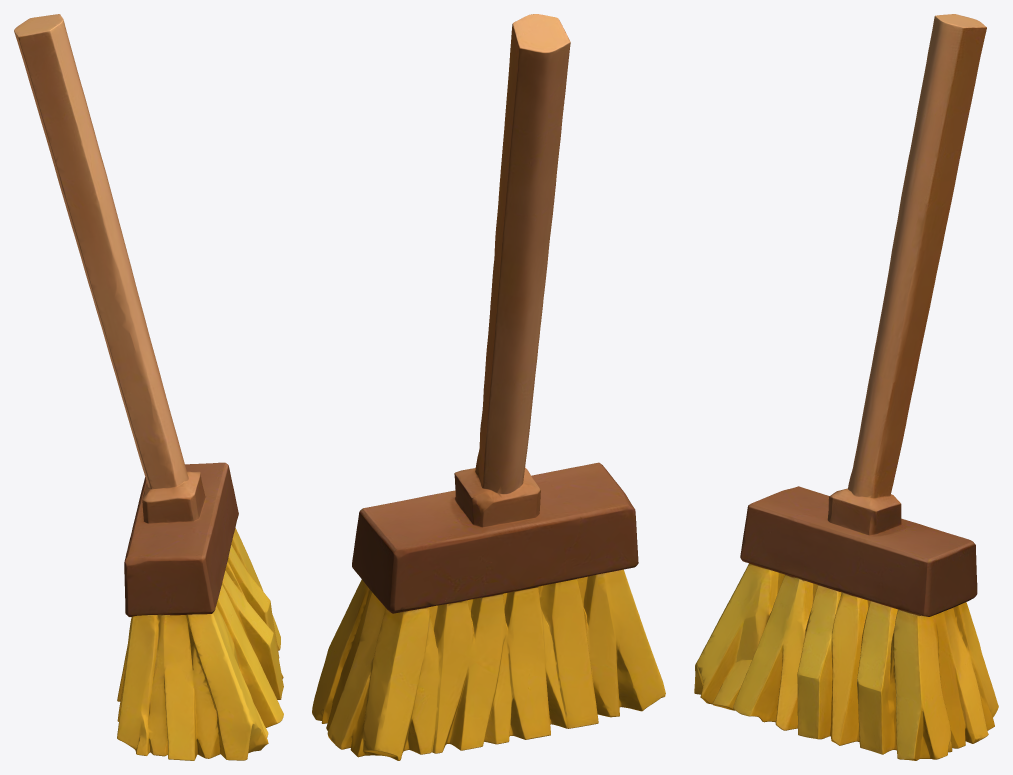
The model's file is Yardsweep-BasicBroom.glb.
3 views of the same model, side by side, from view 1: azimuth 30°, elevation 25°; view 2: azimuth 150°, elevation 25°; view 3: azimuth 270°, elevation 25° (orthographic). The views are drawn at different scales.
Visible parts, largest first — view 1: tripo_node_b0f94325-44e1-483d-9bf0-b53aa822be77; view 2: tripo_node_b0f94325-44e1-483d-9bf0-b53aa822be77; view 3: tripo_node_b0f94325-44e1-483d-9bf0-b53aa822be77.
Part boxes in pixels (x1,y1,x2,y2): tripo_node_b0f94325-44e1-483d-9bf0-b53aa822be77: [14, 14, 283, 760]; tripo_node_b0f94325-44e1-483d-9bf0-b53aa822be77: [312, 14, 665, 760]; tripo_node_b0f94325-44e1-483d-9bf0-b53aa822be77: [694, 14, 998, 760].
Size of the model in its own units: 0.383 by 1 by 0.4282.
1 material, 1 textured.
